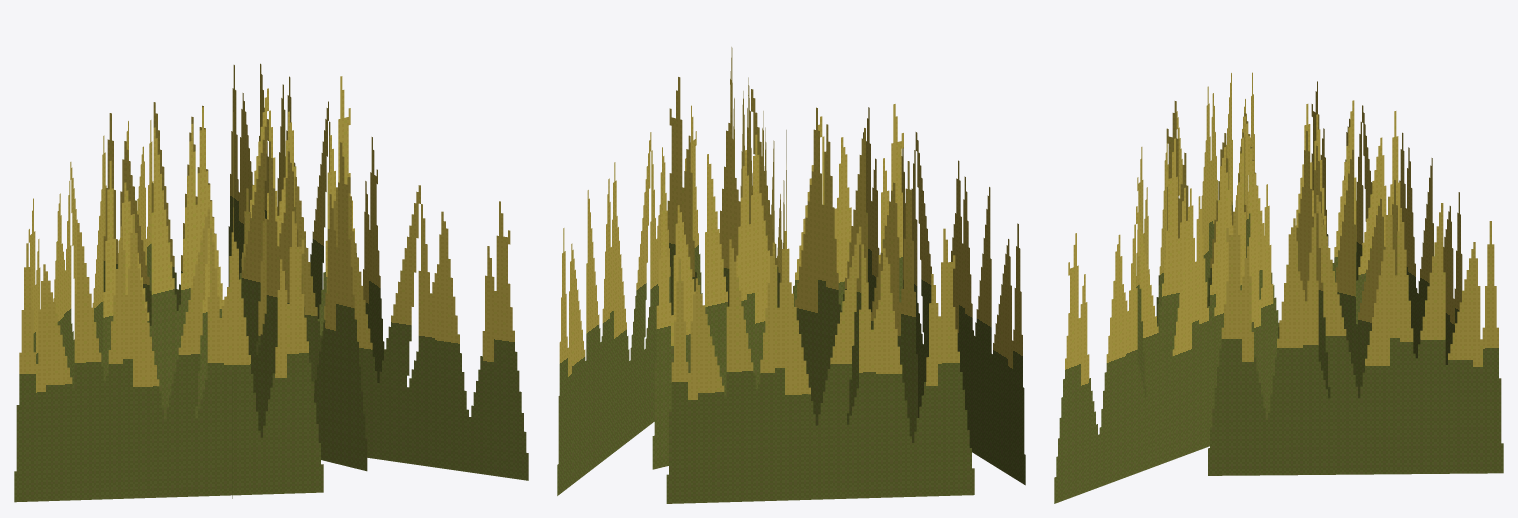
File: mato_alto_capim_dourado.glb
3 renders of one model, left to right at view 1: azimuth 30°, elevation 25°; view 2: azimuth 150°, elevation 25°; view 3: azimuth 270°, elevation 25°, orthographic. The views are drawn at different scales.
Visible parts, largest first — view 1: mato_alto_capim_dourado; view 2: mato_alto_capim_dourado; view 3: mato_alto_capim_dourado.
Boxes of the visible parts, x1,y1,x2,y2 form: mato_alto_capim_dourado: [14, 63, 528, 502]; mato_alto_capim_dourado: [557, 47, 1025, 503]; mato_alto_capim_dourado: [1054, 72, 1503, 503].
Size of the model in its own units: 1.28 by 1.08 by 1.28.
Materials: 1 (1 with a texture image).
